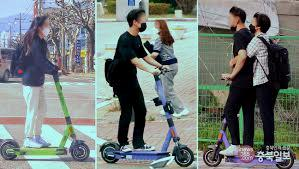multiple: (203, 5, 296, 169)
nonhelmet: (100, 9, 195, 166), (2, 14, 91, 160)
